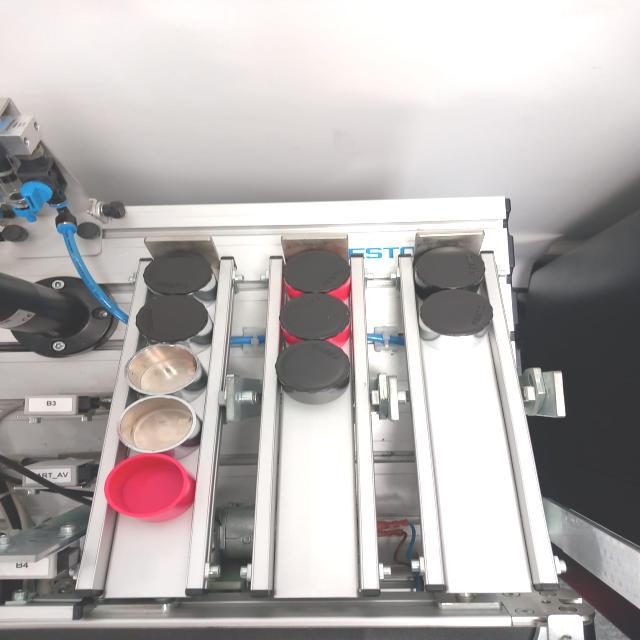NoLid: (103, 454, 195, 524), (119, 397, 209, 455), (122, 345, 205, 396)
Workpiece: (276, 339, 353, 404), (414, 289, 490, 353), (411, 246, 494, 296), (278, 295, 358, 344), (138, 300, 217, 348), (142, 254, 220, 302), (280, 251, 353, 300)
